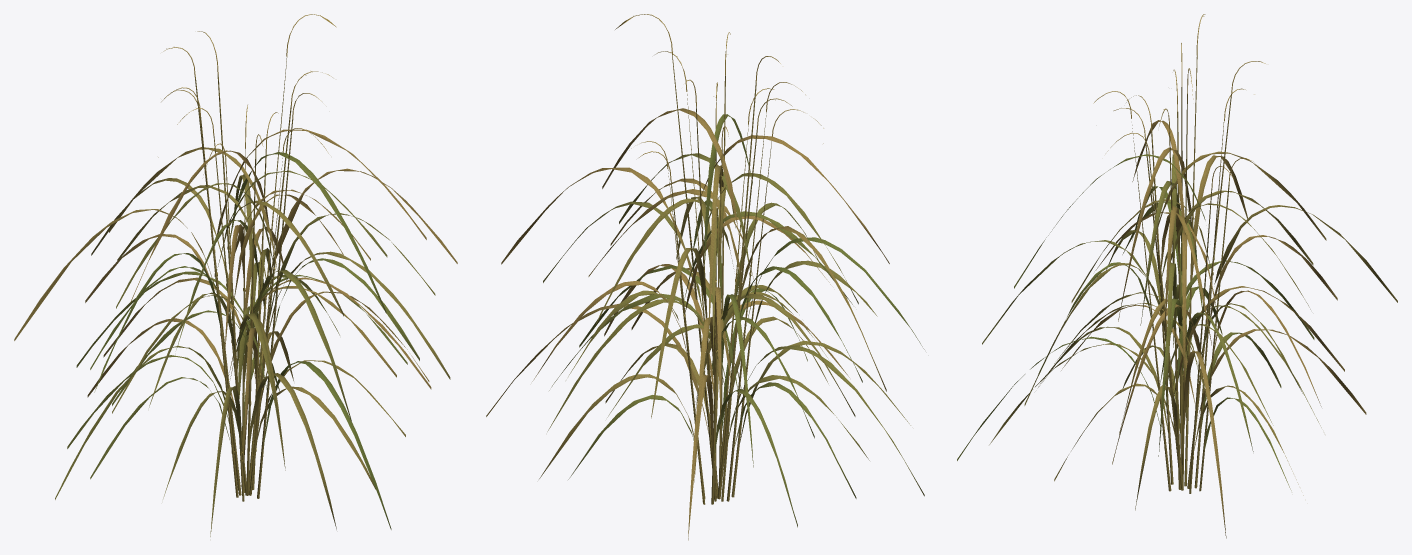
File: rice-5-lite.glb
3 views of the same model, side by side, from view 1: azimuth 30°, elevation 25°; view 2: azimuth 150°, elevation 25°; view 3: azimuth 270°, elevation 25° (orthographic). The views are drawn at different scales.
Visible parts, largest first — view 1: grass-leaf, stem, rachis; view 2: grass-leaf, stem, rachis; view 3: grass-leaf, stem, rachis.
Boxes of the visible parts, <box> form: grass-leaf: <box>14,129,457,536</box>; stem: <box>195,57,293,501</box>; rachis: <box>158,14,336,174</box>; grass-leaf: <box>486,108,924,540</box>; stem: <box>668,55,771,504</box>; rachis: <box>615,14,823,180</box>; grass-leaf: <box>957,120,1397,538</box>; stem: <box>1132,55,1231,493</box>; rachis: <box>1093,14,1265,188</box>.
Size of what is drawn, in the model's own units: 1.06 by 1.14 by 1.01.
3 materials, 2 textured.
